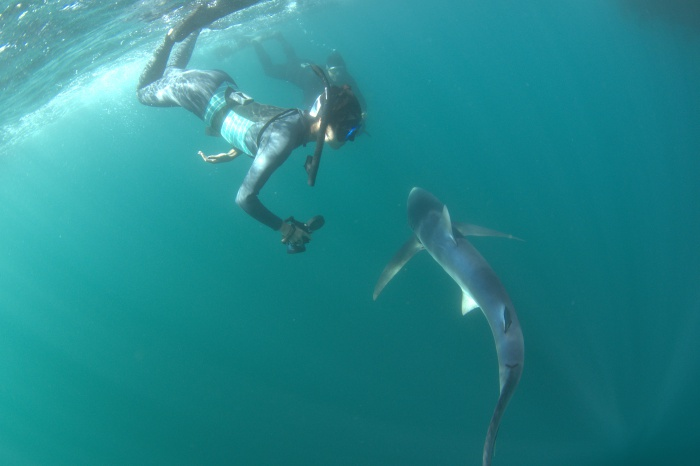Azul: (357, 170, 532, 465)
